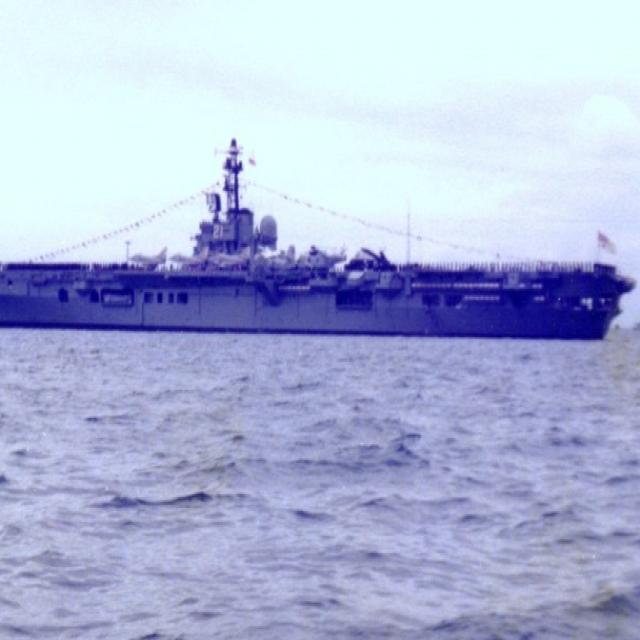Portanaves: (1, 122, 639, 341)
